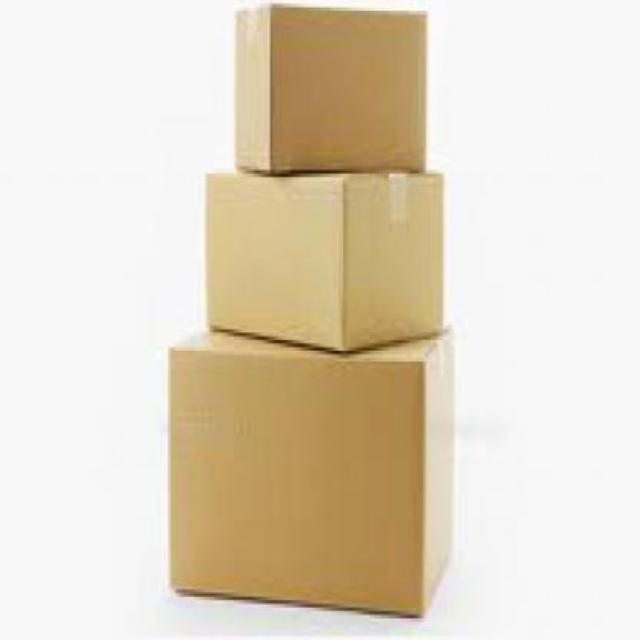cardboard_box: (168, 312, 458, 628), (205, 158, 458, 354), (226, 9, 456, 167)
